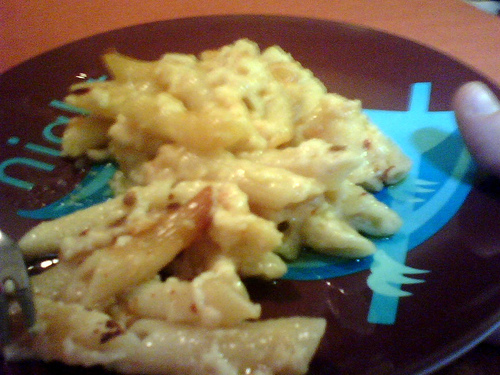macncheese: (6, 37, 404, 375)
